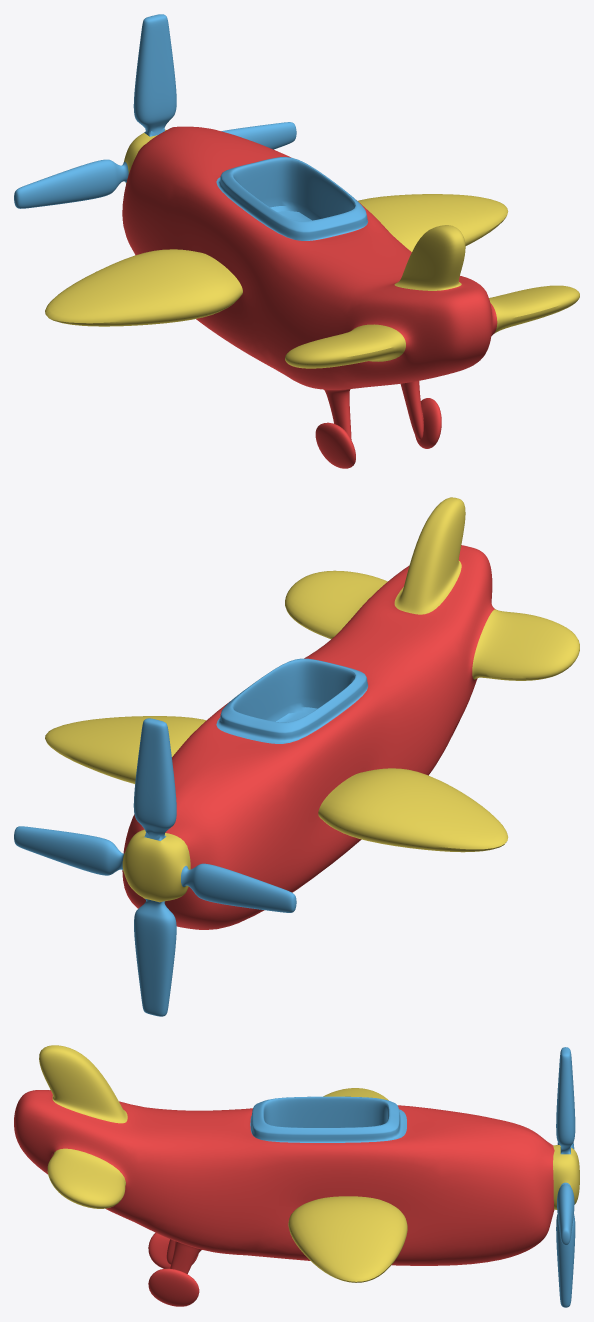
The model's file is avioncito.glb.
3 renders of one model, top to bottom at view 1: azimuth 30°, elevation 25°; view 2: azimuth 150°, elevation 25°; view 3: azimuth 270°, elevation 25°, orthographic. The views are drawn at different scales.
Visible parts, largest first — view 1: Cube, Cube.001; view 2: Cube, Cube.001; view 3: Cube, Cube.001.
Boxes of the visible parts, box(x1,y1,x2,y2) form: Cube: box(45, 126, 579, 468); Cube.001: box(14, 14, 296, 208); Cube: box(45, 497, 579, 929); Cube.001: box(14, 718, 296, 1016); Cube: box(14, 1045, 554, 1306); Cube.001: box(553, 1047, 579, 1307).
Bounding box in the file's own units: 5.18 × 3.23 × 6.43.
